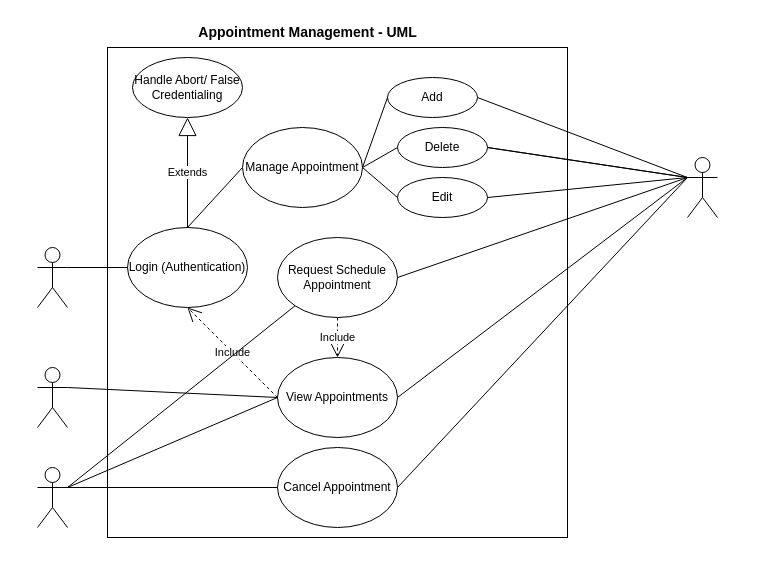
The diagram is 783 pixels wide and 565 high, and some of its shapes have lost their labels. The shapes that lost their labels are listed below. From the top down, each one's centre as x and y in pixels, then its label:
(702,187): MediTech System & DB
(52,277): Administrator
(52,397): Doctor
(52,497): Patient
